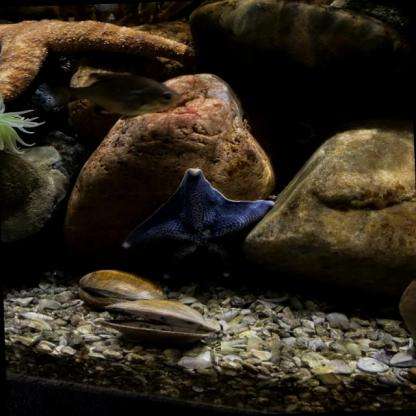fish: (58, 70, 183, 119)
starfish: (121, 168, 271, 282)
